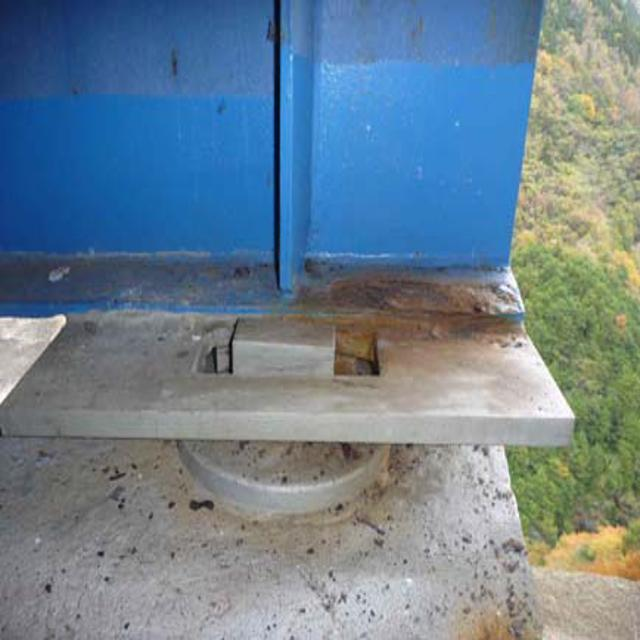corrosion: (301, 232, 516, 404)
